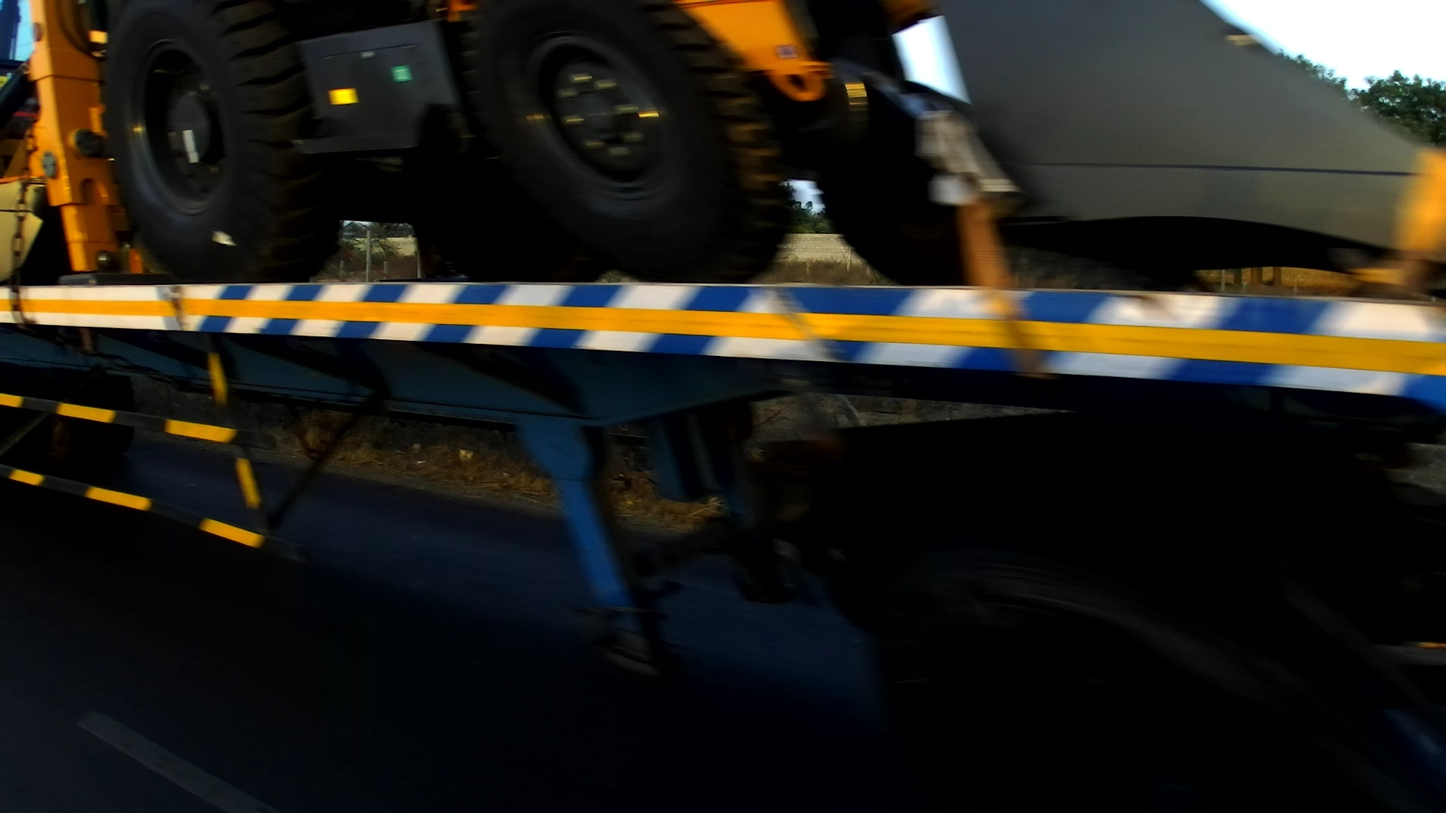vehicle fallback: (1, 1, 1442, 813)
